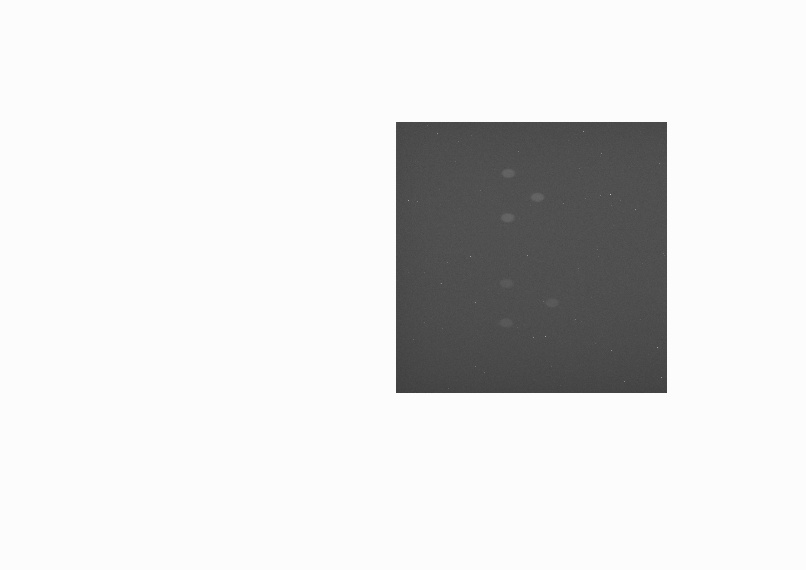cluster: (499, 277, 560, 328), (499, 167, 546, 223)
